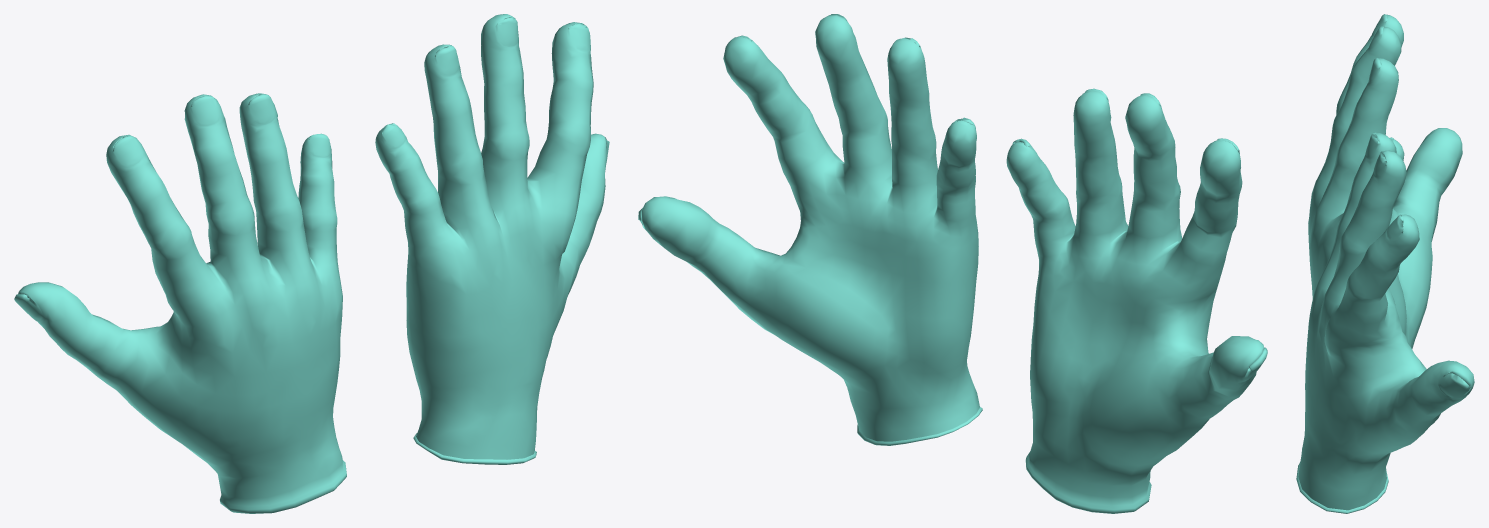
File: glows_only.fbx
3 renders of one model, left to right at view 1: azimuth 30°, elevation 25°; view 2: azimuth 150°, elevation 25°; view 3: azimuth 270°, elevation 25°, orthographic. The views are drawn at different scales.
Parts seen in each view (by area): view 1: glows_only; view 2: glows_only; view 3: glows_only.
Boxes of the visible parts, x1,y1,x2,y2 form: glows_only: (14,14,609,513); glows_only: (638,14,1267,513); glows_only: (1296,14,1474,513).
Bounding box in the file's own units: 0.235 × 0.156 × 0.0694.
